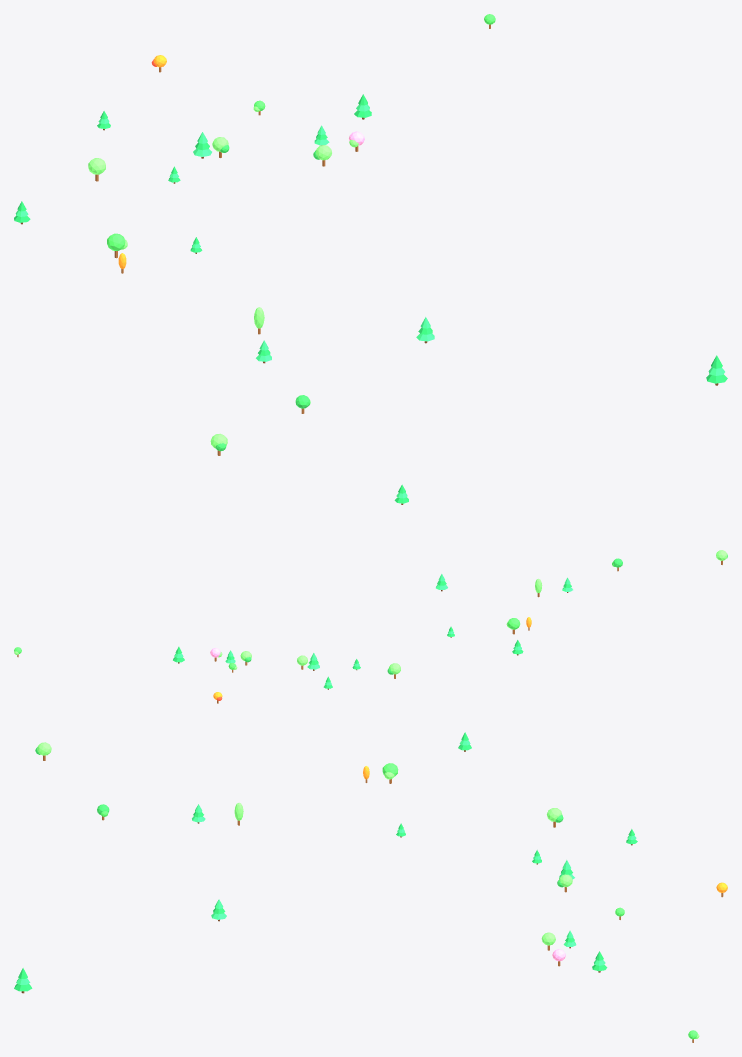
File: course_trees_0.glb
3 renders of one model, top to bottom at view 1: azimuth 30°, elevation 25°; view 2: azimuth 150°, elevation 25°; view 3: azimuth 270°, elevation 25°, orthographic. The views are drawn at different scales.
Parts seen in each view (by area): view 1: course_trees_0; view 2: course_trees_0; view 3: course_trees_0.
Part boxes in pixels (bbox=[...]): course_trees_0: bbox=[14, 14, 727, 455]; course_trees_0: bbox=[14, 484, 727, 703]; course_trees_0: bbox=[14, 732, 727, 1042].
Size of the model in its own units: 197 by 27.67 by 216.
1 material, 1 textured.
